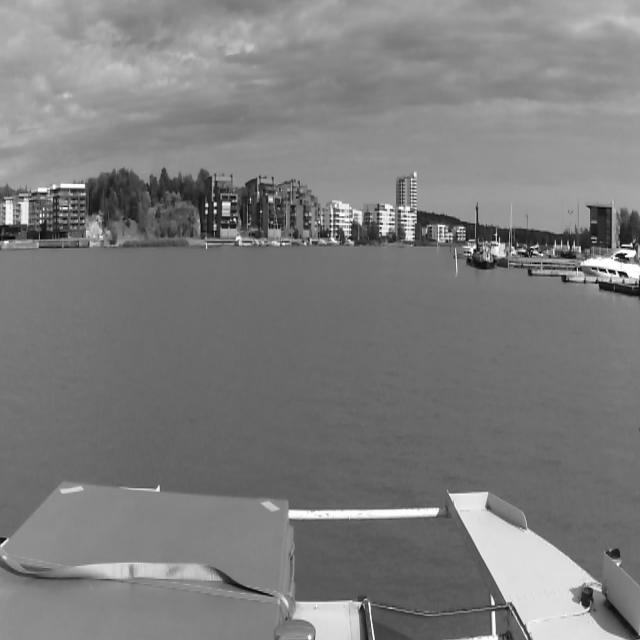ship: (579, 243, 640, 278), (467, 241, 494, 267)
